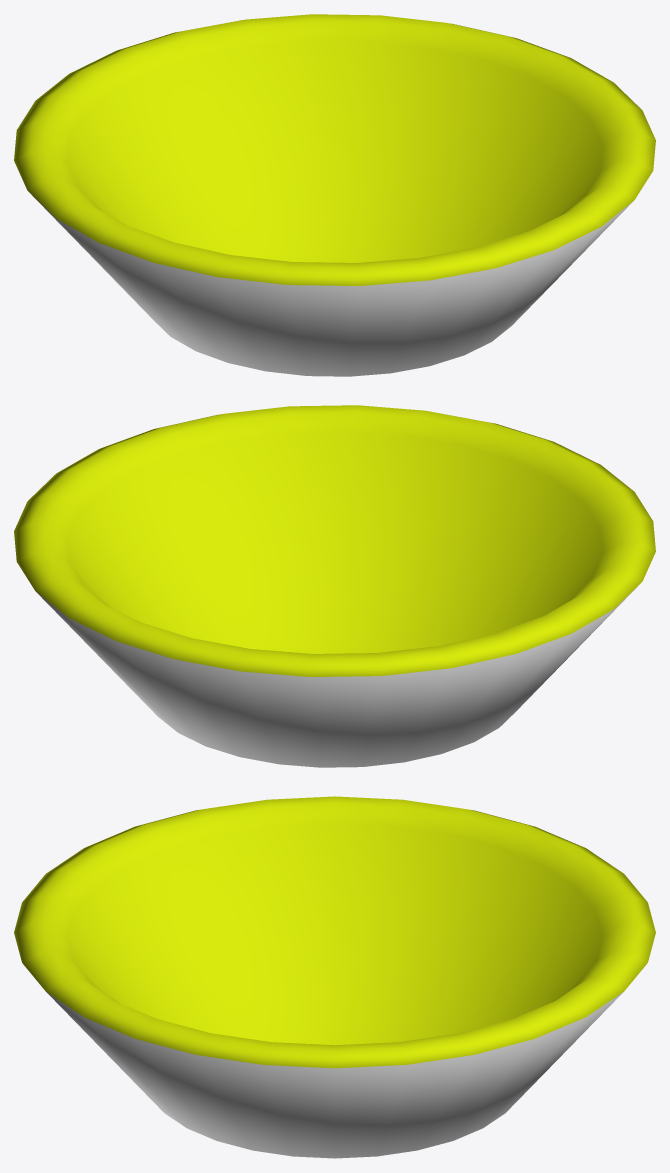
Rendered from Yellow_bowl.fbx.
The picture shows the model from 3 angles, top to bottom: view 1: azimuth 30°, elevation 25°; view 2: azimuth 150°, elevation 25°; view 3: azimuth 270°, elevation 25°; orthographic projection.
Parts seen in each view (by area): view 1: Yellow_bowl; view 2: Yellow_bowl; view 3: Yellow_bowl.
Part boxes in pixels (x1=…): Yellow_bowl: x1=14, y1=14, x2=655, y2=376; Yellow_bowl: x1=14, y1=405, x2=655, y2=767; Yellow_bowl: x1=14, y1=796, x2=655, y2=1158.
Size of the model in its own units: 0.127 by 0.0363 by 0.127.
2 materials, 1 textured.
